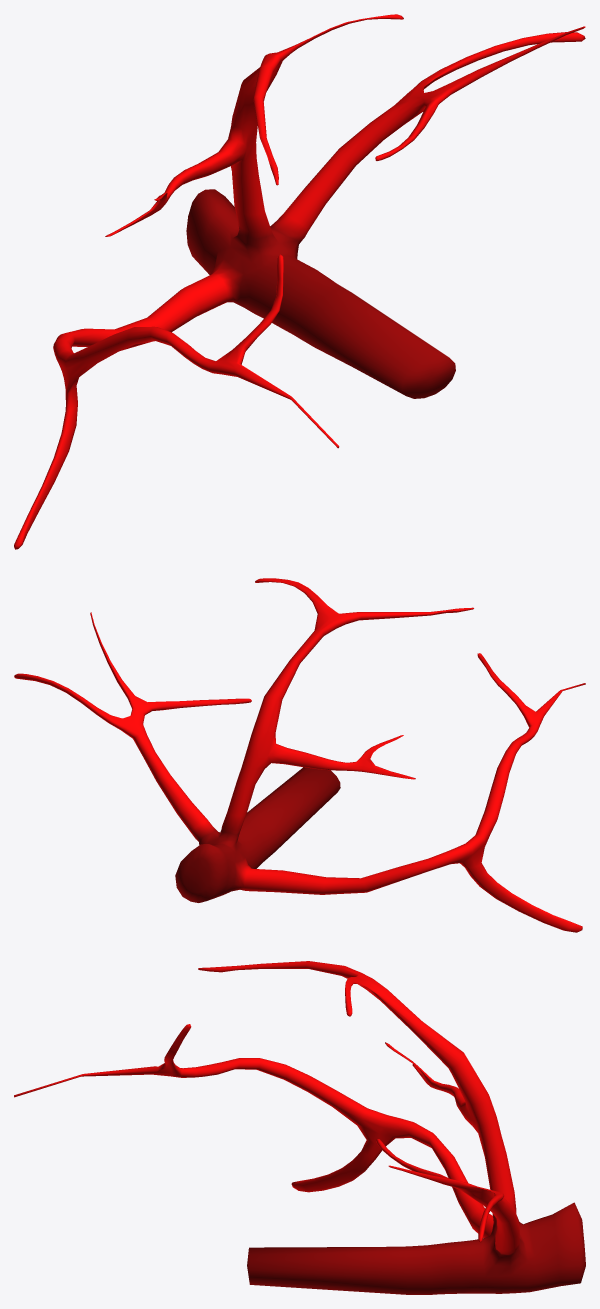
The model's file is IVC_Heart_inner.fbx.
3 views of the same model, one above another, from view 1: azimuth 30°, elevation 25°; view 2: azimuth 150°, elevation 25°; view 3: azimuth 270°, elevation 25° (orthographic). The views are drawn at different scales.
Visible parts, largest first — view 1: IVC_Heart_inner; view 2: IVC_Heart_inner; view 3: IVC_Heart_inner.
Part boxes in pixels (x1,y1,x2,y2): IVC_Heart_inner: (14, 14, 585, 549); IVC_Heart_inner: (14, 578, 585, 932); IVC_Heart_inner: (14, 961, 585, 1294).
Bounding box in the file's own units: 182 × 107 × 155.
